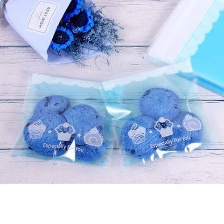snack: (94, 53, 217, 171), (2, 65, 130, 171)
